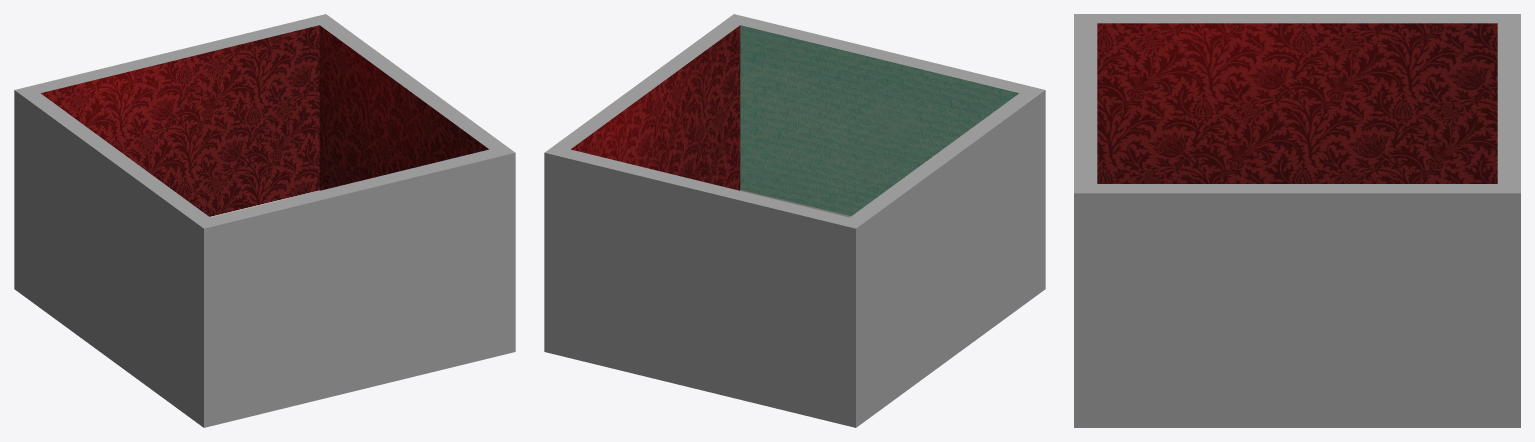
File: uvokwall.fbx
3 views of the same model, side by side, from view 1: azimuth 30°, elevation 25°; view 2: azimuth 150°, elevation 25°; view 3: azimuth 270°, elevation 25° (orthographic). The views are drawn at different scales.
Parts seen in each view (by area): view 1: wall:pCube3; view 2: wall:pCube3; view 3: wall:pCube3.
Boxes of the visible parts, bbox=[...] form: wall:pCube3: bbox=[14, 14, 515, 427]; wall:pCube3: bbox=[544, 14, 1045, 427]; wall:pCube3: bbox=[1074, 14, 1520, 427].
Size of the model in its own units: 15.85 by 9.69 by 16.7.
Materials: 4 (3 with a texture image).
